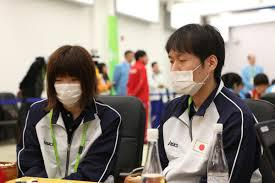OK: (52, 74, 88, 107)
WRONG: (169, 55, 212, 98)
